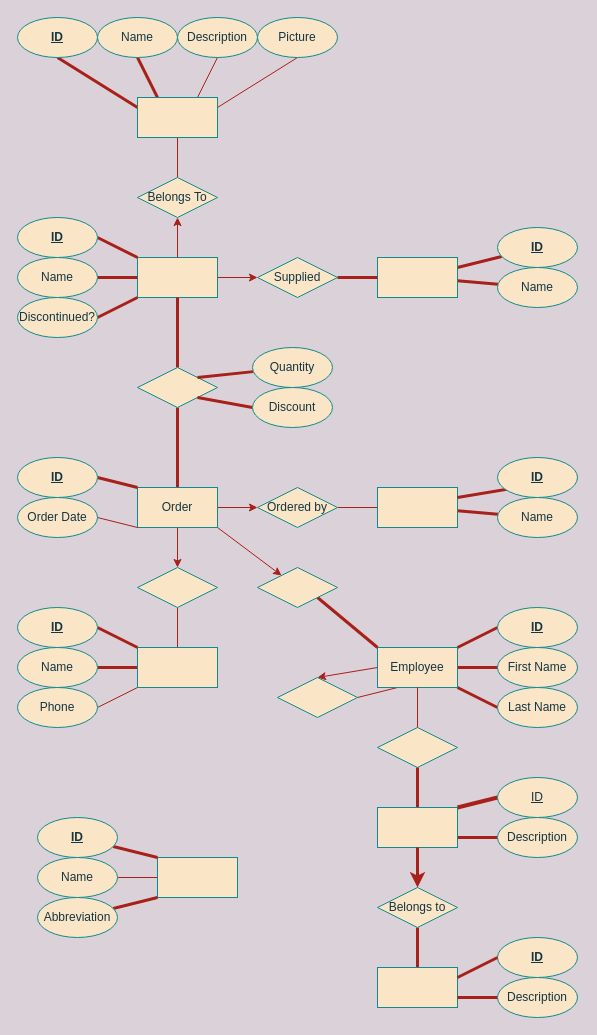
This 597x1035 diagram has some shape labels left out. The box of each missing label's shape, as (x1, y1, x2, y2) in pixels:
Category: (136, 96, 218, 138)
Customer: (376, 486, 458, 528)
Has: (136, 366, 218, 408)
Product: (136, 256, 218, 298)
Region: (376, 966, 458, 1008)
Reports to: (276, 676, 358, 718)
Shipped by: (136, 566, 218, 608)
Shipper: (136, 646, 218, 688)
Supplier: (376, 256, 458, 298)
Territory: (376, 806, 458, 848)
U.S. State: (156, 856, 238, 898)
Worked on: (256, 566, 338, 608)
Works in: (376, 726, 458, 768)
